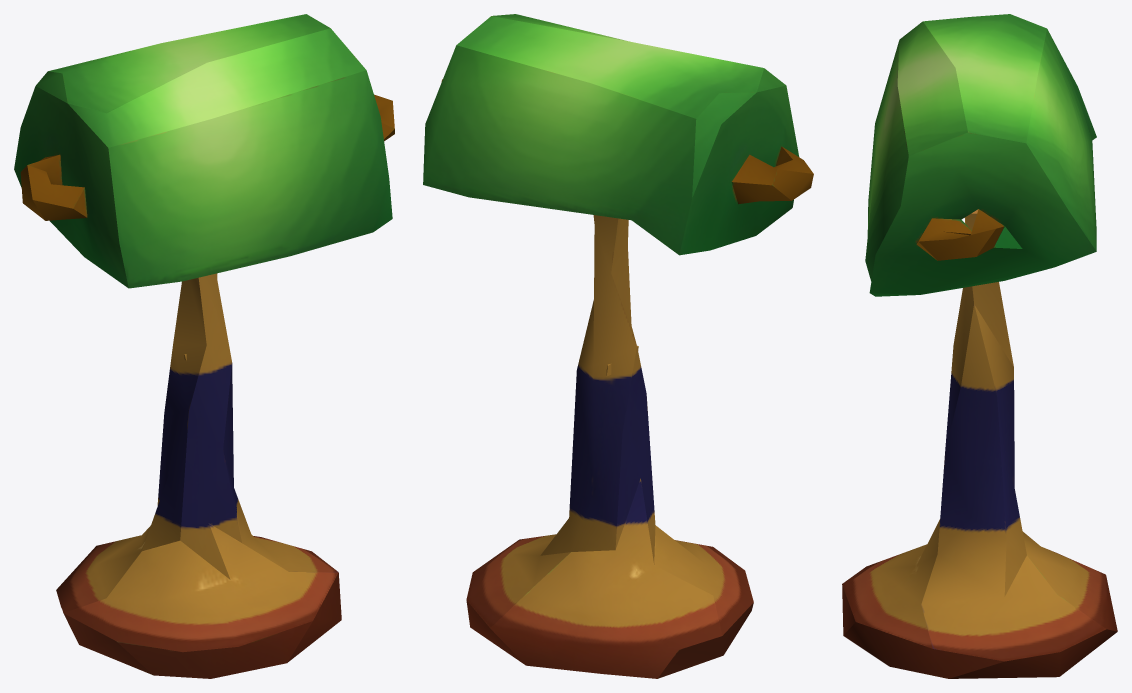
The model's file is harbor-brass-desk-lamp.glb.
3 renders of one model, left to right at view 1: azimuth 30°, elevation 25°; view 2: azimuth 150°, elevation 25°; view 3: azimuth 270°, elevation 25°, orthographic. The views are drawn at different scales.
Parts seen in each view (by area): view 1: geometry_0; view 2: geometry_0; view 3: geometry_0.
Part boxes in pixels (x1=…): geometry_0: x1=14, y1=14, x2=394, y2=678; geometry_0: x1=423, y1=14, x2=813, y2=678; geometry_0: x1=842, y1=14, x2=1117, y2=678.
Bounding box in the file's own units: 0.6687 × 1 × 0.4448.
1 material, 1 textured.
